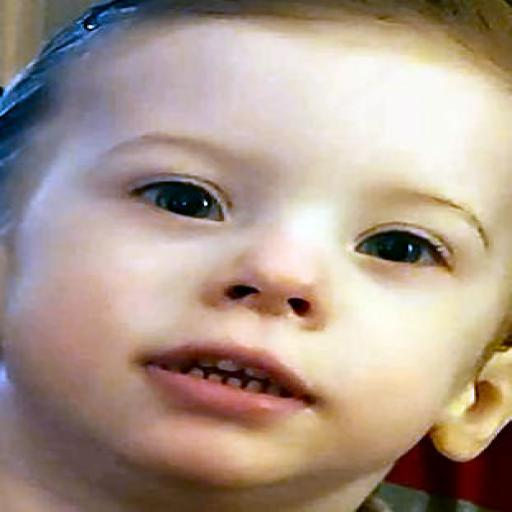Autism: (45, 35, 512, 473)
